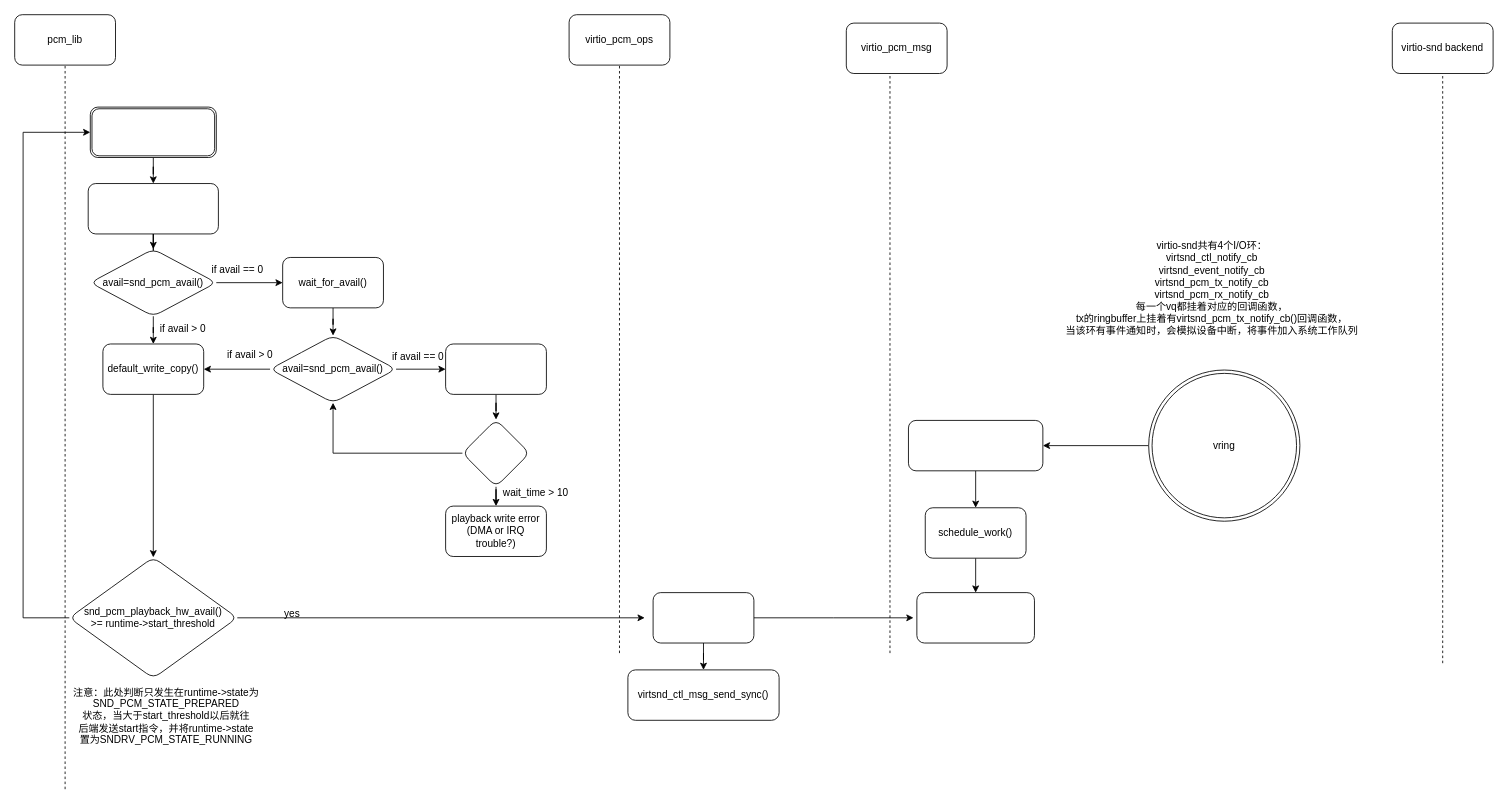
The diagram is 1508 pixels wide and 805 high, and some of its shapes have lost their labels. Here are the shapes that lost their labels. From the top down, the centre of each, then its label:
At (x=152, y=132): "_snd_pcm_lib_xfer()".
At (x=152, y=208): "snd_pcm_update_hw_ptr()".
At (x=495, y=368): "schedule_timeout()".
At (x=496, y=453): "wake_up()?".
At (x=975, y=445): "virtio_pcm_msg_complete()".
At (x=703, y=617): "virtio_pcm_trigger()".
At (x=975, y=617): "virtsnd_pcm_msg_send()".
